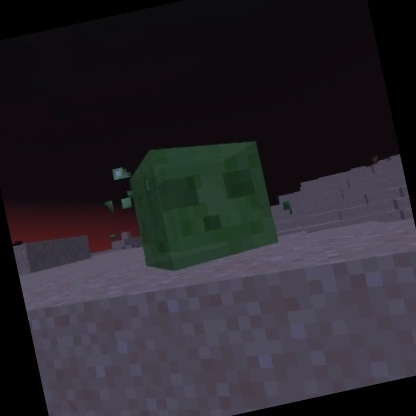slime: (116, 121, 287, 282)
